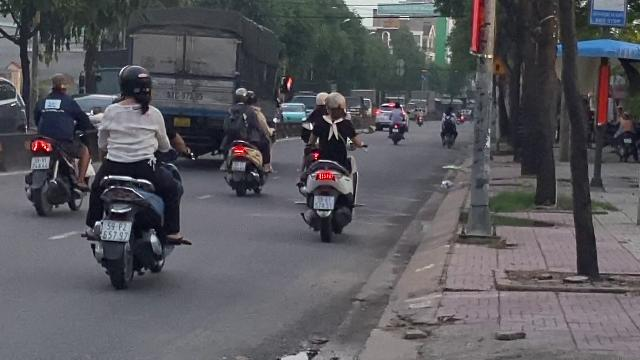helmet: (116, 64, 154, 104), (326, 92, 346, 116), (49, 73, 70, 93), (231, 88, 247, 104), (244, 90, 258, 106), (314, 92, 328, 106)
licenseplate: (102, 220, 130, 240), (314, 195, 334, 209), (31, 156, 49, 168), (232, 162, 245, 170)
motorcyclist: (78, 62, 190, 290), (294, 89, 362, 240), (24, 73, 90, 217), (218, 87, 272, 197)
